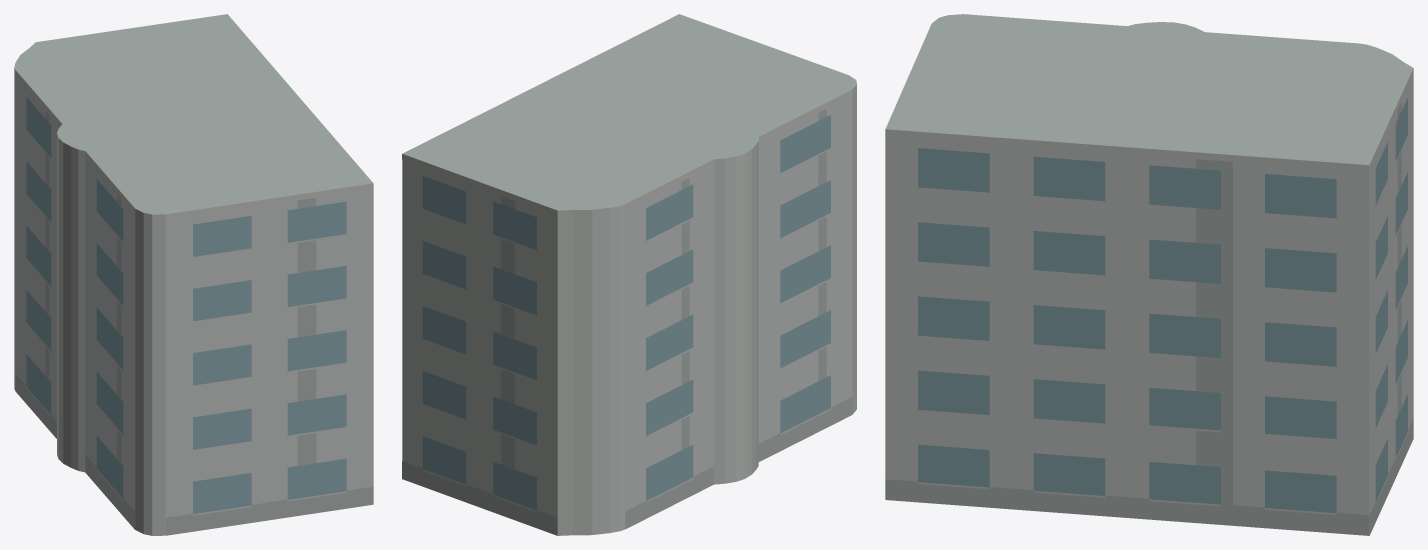
Rendered from survey-upis-32854354.glb.
3 renders of one model, left to right at view 1: azimuth 30°, elevation 25°; view 2: azimuth 150°, elevation 25°; view 3: azimuth 270°, elevation 25°, orthographic. The views are drawn at different scales.
Parts seen in each view (by area): view 1: survey-upis-32854354.tmp; view 2: survey-upis-32854354.tmp; view 3: survey-upis-32854354.tmp.
Part boxes in pixels (x1=…): survey-upis-32854354.tmp: x1=14, y1=14, x2=373, y2=535; survey-upis-32854354.tmp: x1=402, y1=14, x2=856, y2=535; survey-upis-32854354.tmp: x1=885, y1=14, x2=1413, y2=535.
Bounding box in the file's own units: 11.47 × 13.1 × 16.93.
